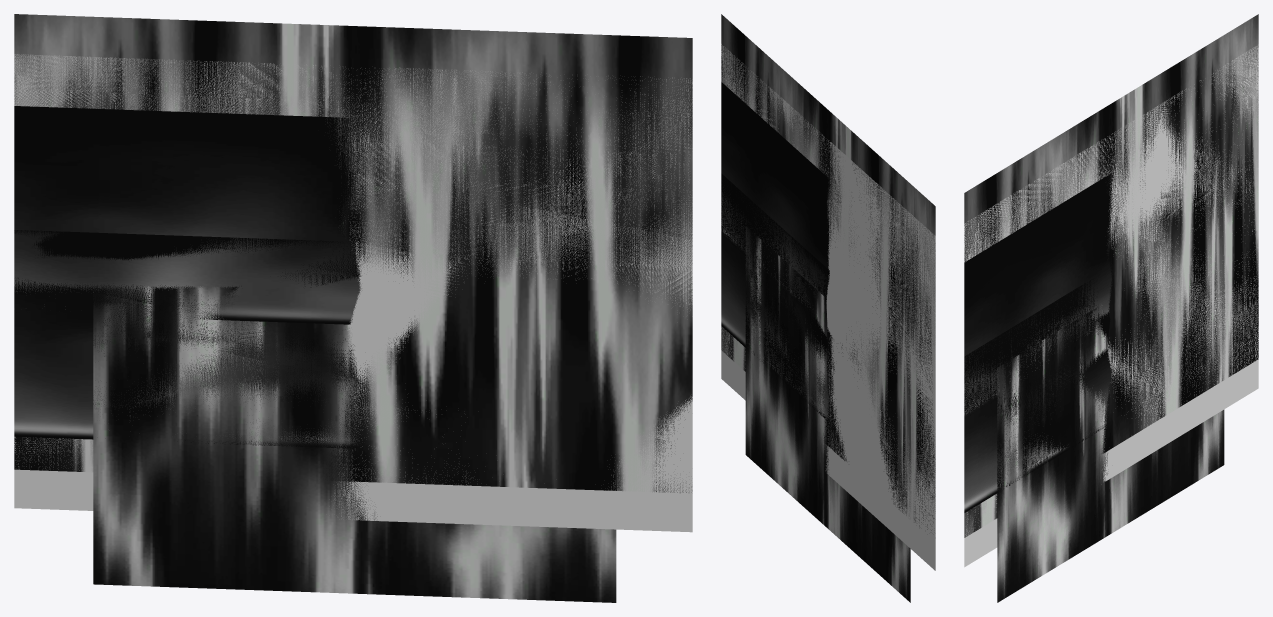
File: eff_scene_3.fbx
3 renders of one model, left to right at view 1: azimuth 30°, elevation 25°; view 2: azimuth 150°, elevation 25°; view 3: azimuth 270°, elevation 25°, orthographic. The views are drawn at different scales.
Visible parts, largest first — view 1: eff_scene_0_0, eff_scene_1_0, eff_scene_3_0, eff_scene_4_0, eff_scene_2_0; view 2: eff_scene_4_0, eff_scene_0_0, eff_scene_1_0, eff_scene_3_0, eff_scene_2_0; view 3: eff_scene_0_0, eff_scene_1_0, eff_scene_4_0, eff_scene_3_0, eff_scene_2_0.
Boxes of the visible parts, bbox=[...] form: eff_scene_0_0: bbox=[14, 14, 692, 493]; eff_scene_1_0: bbox=[93, 285, 616, 602]; eff_scene_3_0: bbox=[14, 106, 363, 324]; eff_scene_4_0: bbox=[14, 54, 692, 532]; eff_scene_2_0: bbox=[14, 230, 362, 448]; eff_scene_4_0: bbox=[721, 44, 935, 570]; eff_scene_0_0: bbox=[721, 14, 935, 530]; eff_scene_1_0: bbox=[745, 226, 910, 602]; eff_scene_3_0: bbox=[721, 82, 830, 311]; eff_scene_2_0: bbox=[721, 173, 829, 422]; eff_scene_0_0: bbox=[964, 14, 1258, 537]; eff_scene_1_0: bbox=[997, 306, 1224, 602]; eff_scene_4_0: bbox=[964, 46, 1258, 567]; eff_scene_3_0: bbox=[964, 173, 1114, 418]; eff_scene_2_0: bbox=[964, 279, 1111, 512].
Size of the model in its own units: 8.75 by 9.8 by 6.08.
